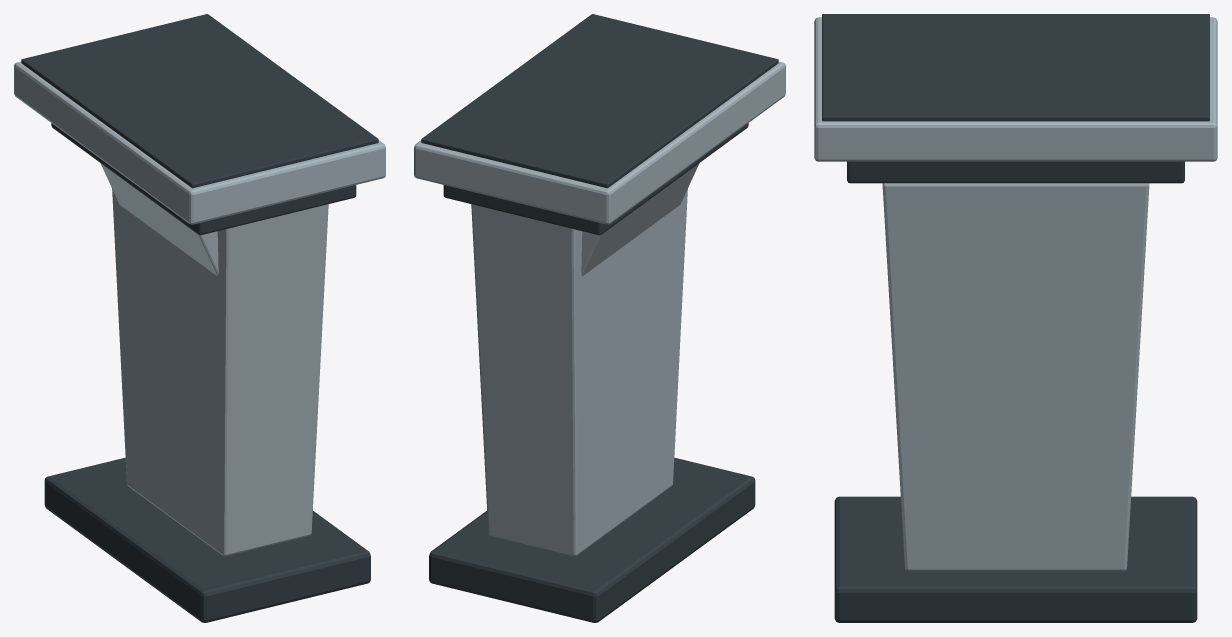
The model's file is Nocturne_PlatformButtress_A.fbx.
3 renders of one model, left to right at view 1: azimuth 30°, elevation 25°; view 2: azimuth 150°, elevation 25°; view 3: azimuth 270°, elevation 25°, orthographic. The views are drawn at different scales.
Visible parts, largest first — view 1: Nocturne_PlatformButtress_A; view 2: Nocturne_PlatformButtress_A; view 3: Nocturne_PlatformButtress_A.
Part boxes in pixels (<box>): Nocturne_PlatformButtress_A: <box>14,14,385,622</box>; Nocturne_PlatformButtress_A: <box>414,14,785,622</box>; Nocturne_PlatformButtress_A: <box>814,14,1217,622</box>.
Size of the model in its own units: 5.1 by 11.14 by 8.
